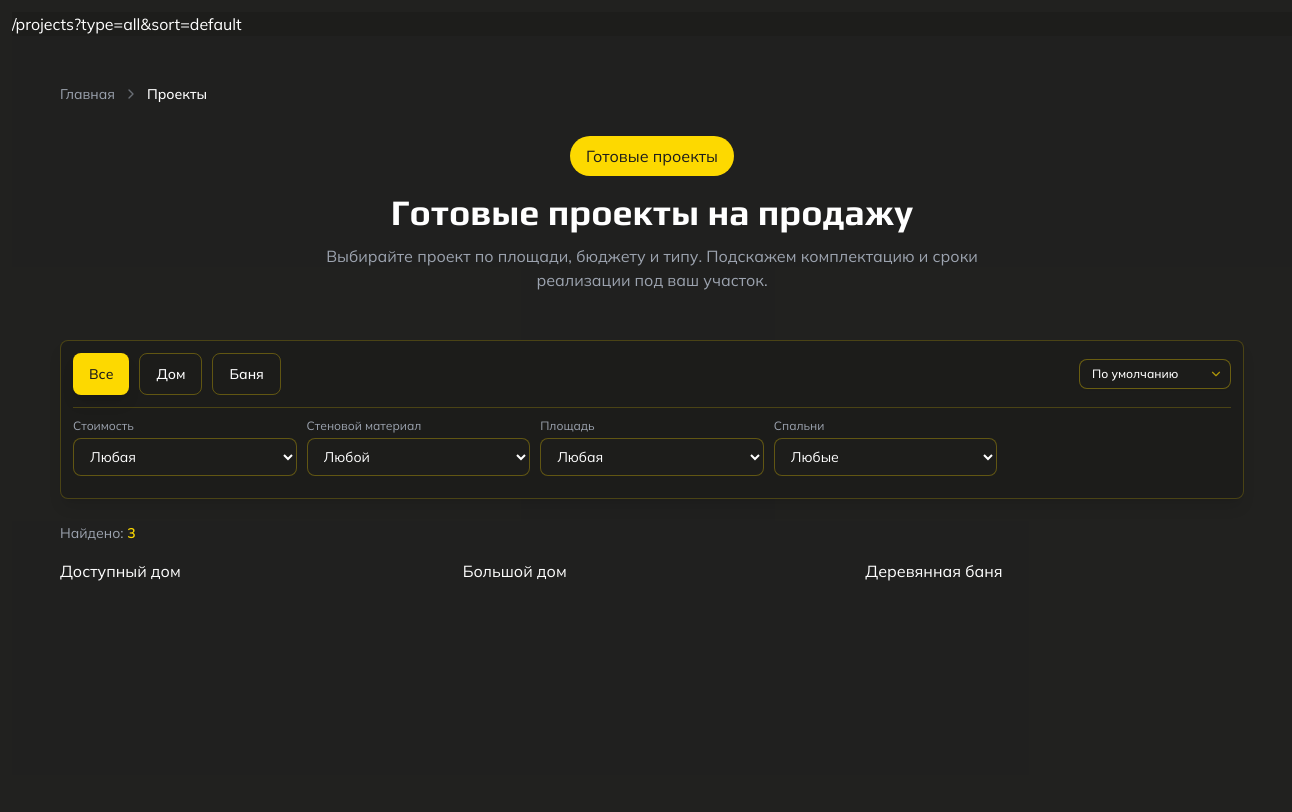
Test case: catalog filters UI › сбрасывает несовместимые фасеты при смене типа готового проекта
Click the button "Дом".
click(171, 374)  # box left=140, top=353, right=202, bottom=395
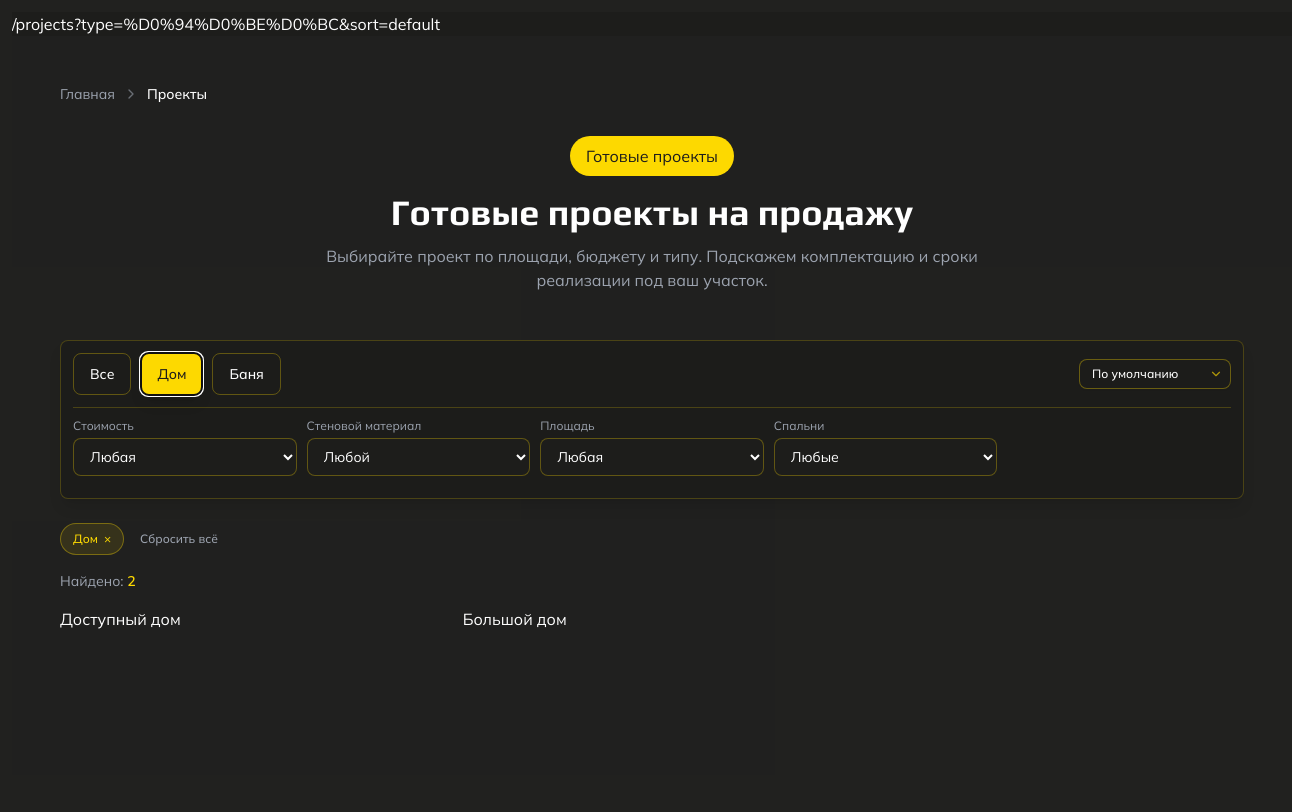
Select "Кирпич" in the dropdown labelled "Стеновой материал" at (418, 457), box left=307, top=438, right=530, bottom=476
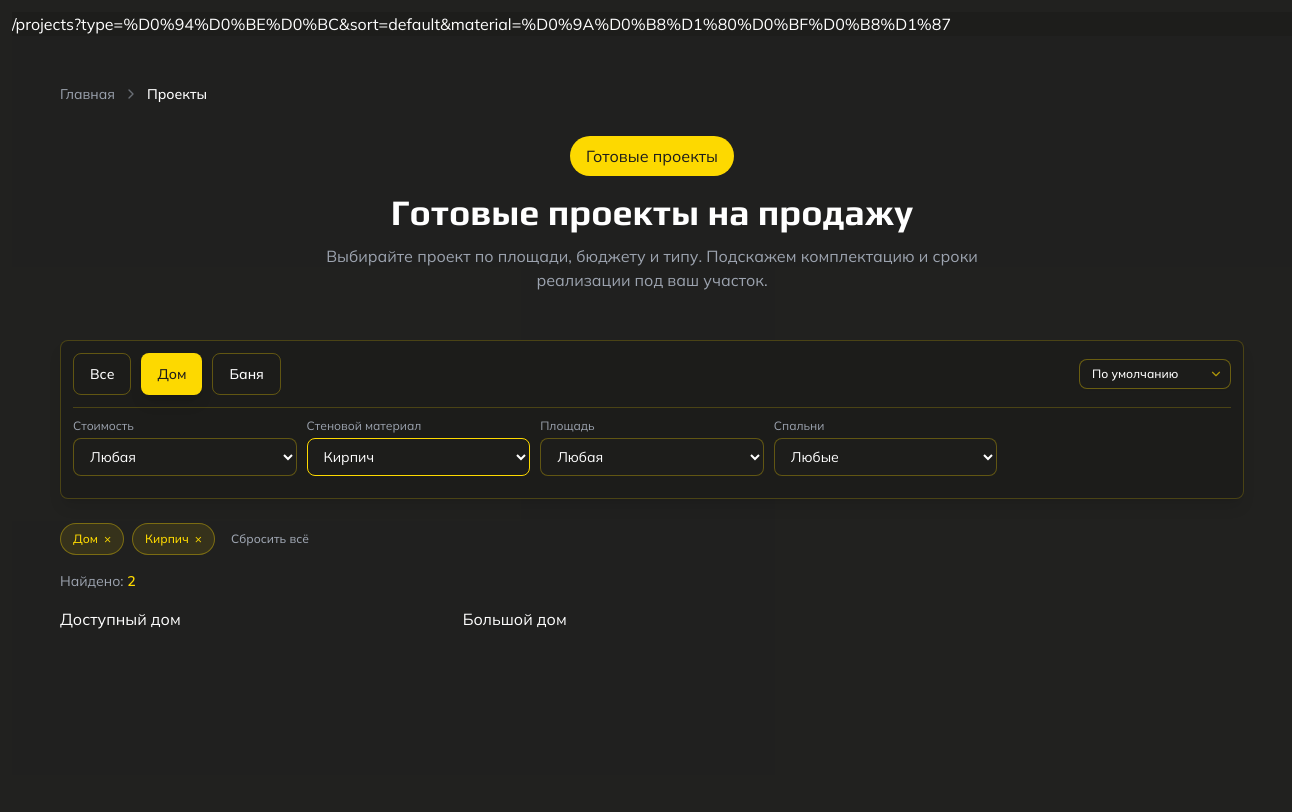
Result: the button with aria-label "Удалить фильтр Кирпич" is shown at left=132, top=523, right=215, bottom=555
Click the button "Баня".
click(247, 374)  # box left=212, top=353, right=281, bottom=395
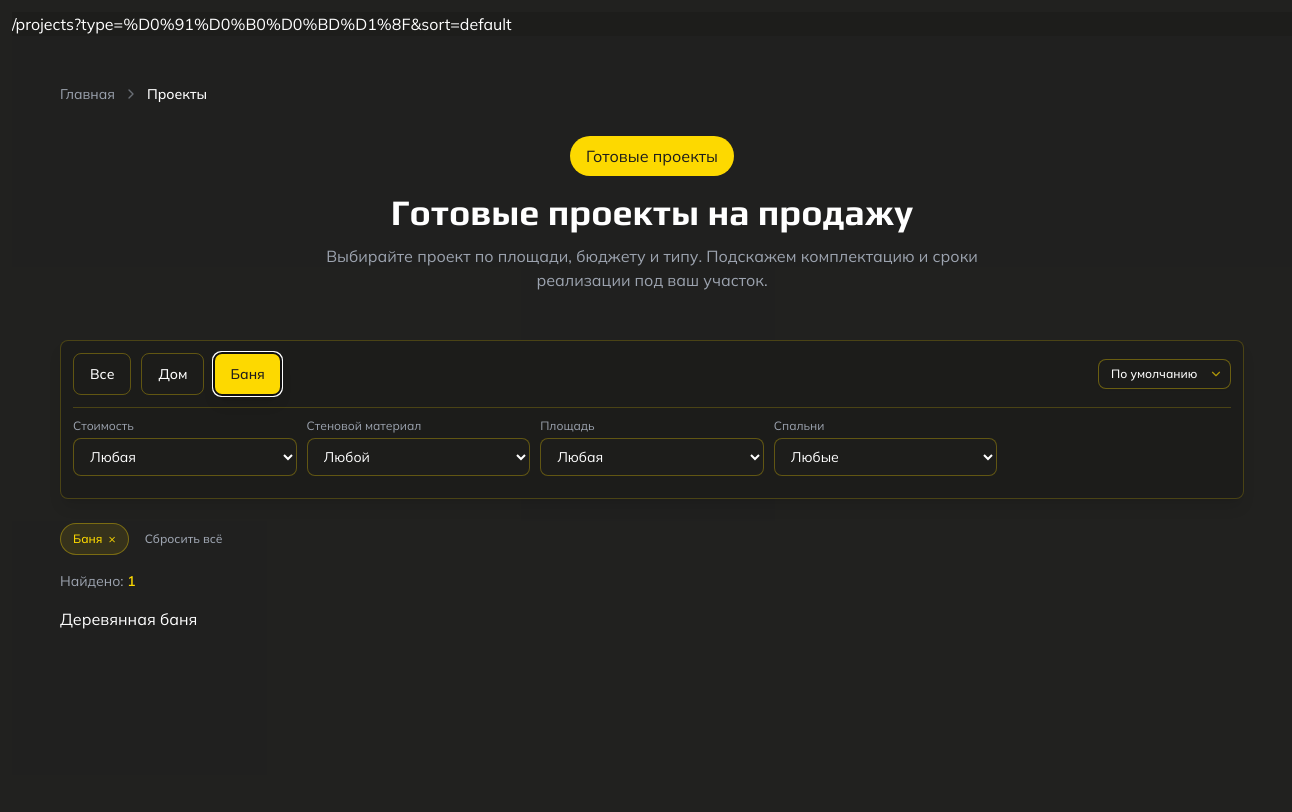
Result: the link "Деревянная баня" is shown at left=60, top=609, right=197, bottom=629
